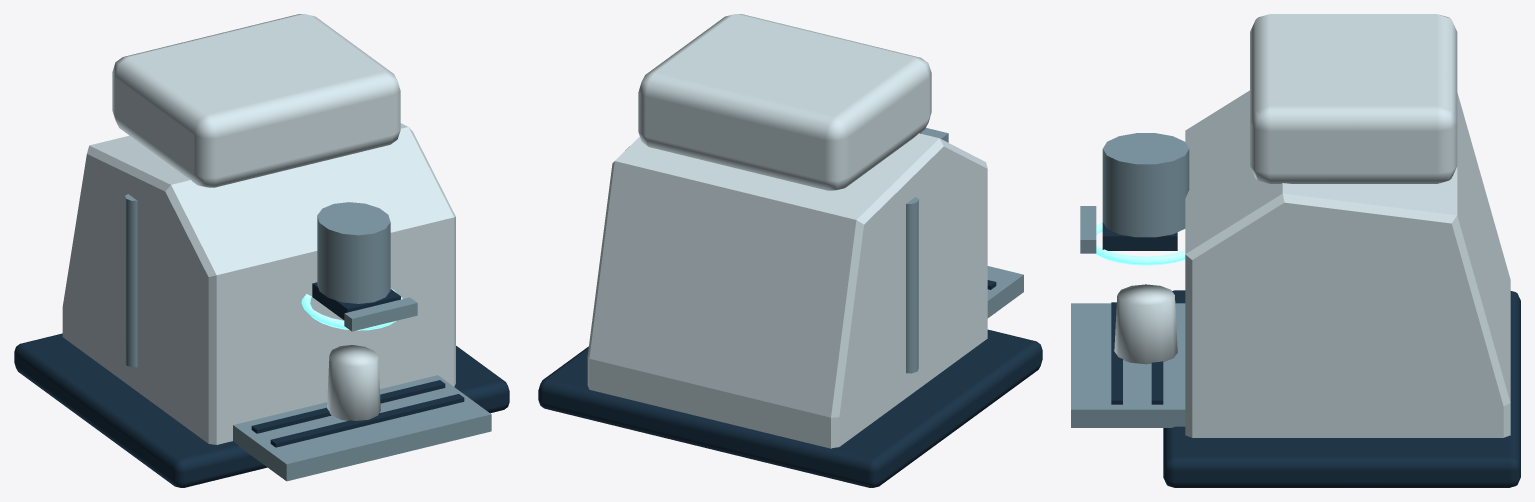
File: kitchencoffeemachine.glb
3 views of the same model, side by side, from view 1: azimuth 30°, elevation 25°; view 2: azimuth 150°, elevation 25°; view 3: azimuth 270°, elevation 25° (orthographic). The views are drawn at different scales.
Parts seen in each view (by area): view 1: atelier-cyber-kitchencoffeemachine; view 2: atelier-cyber-kitchencoffeemachine; view 3: atelier-cyber-kitchencoffeemachine.
Part boxes in pixels (left/top/right/bottom): atelier-cyber-kitchencoffeemachine: left=14, top=14, right=509, bottom=487; atelier-cyber-kitchencoffeemachine: left=538, top=14, right=1042, bottom=487; atelier-cyber-kitchencoffeemachine: left=1071, top=14, right=1520, bottom=487.
Size of the model in its own units: 1.09 by 1 by 1.18.
